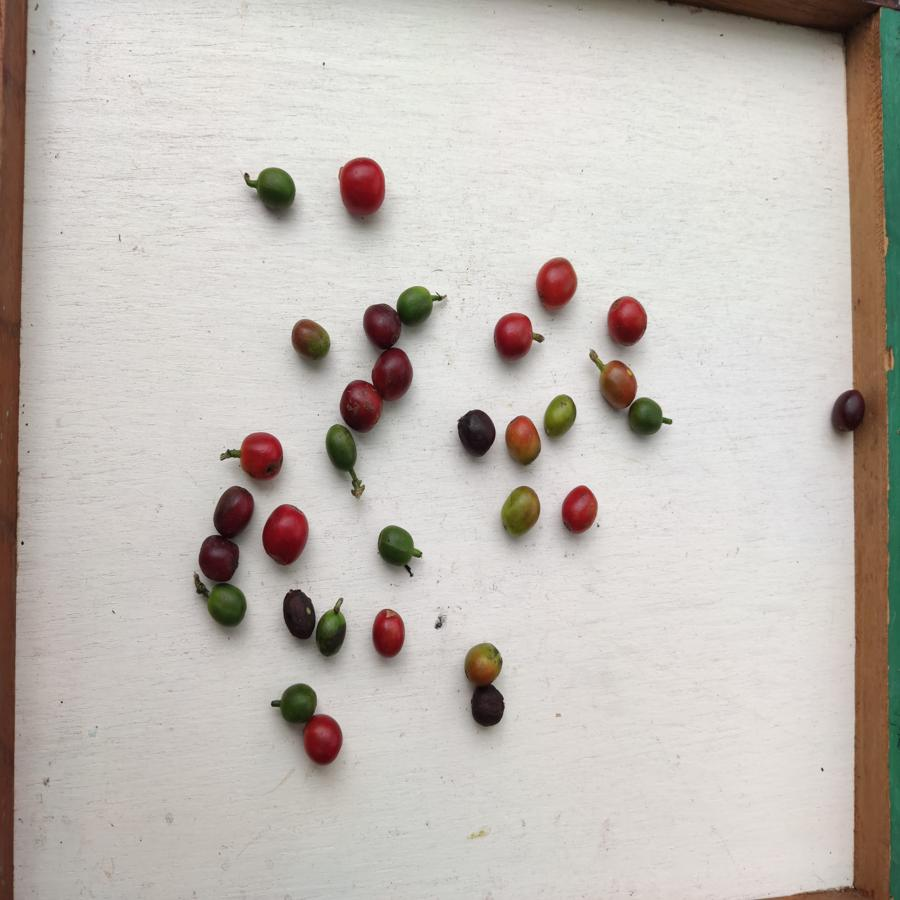Inmaduro: (254, 164, 298, 216), (202, 583, 249, 629), (376, 524, 419, 569), (315, 606, 350, 659), (398, 283, 436, 329), (627, 396, 663, 442), (278, 681, 317, 723), (327, 424, 358, 473)
Maduro: (338, 156, 390, 217), (261, 501, 309, 565), (534, 252, 578, 310), (239, 432, 285, 483), (493, 310, 536, 361), (559, 484, 603, 533), (608, 294, 648, 347), (302, 714, 342, 764), (370, 607, 405, 659)
Pinton: (501, 485, 542, 539), (291, 318, 337, 364), (461, 641, 507, 686), (505, 416, 541, 466), (540, 393, 580, 437), (598, 359, 634, 407)
Sobremaduro: (339, 380, 384, 431), (197, 535, 242, 582), (212, 486, 254, 535), (280, 586, 318, 639), (827, 388, 869, 433), (373, 349, 414, 395), (457, 410, 496, 456), (362, 302, 401, 348), (470, 684, 508, 731)
